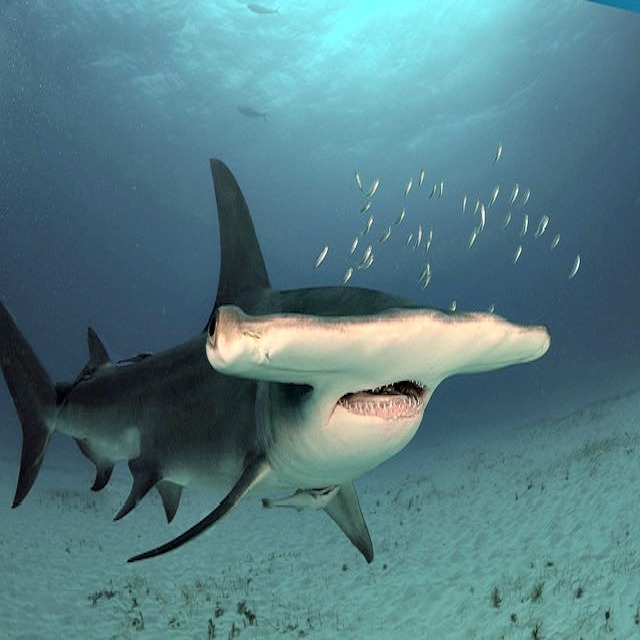hammerhead: (1, 208, 575, 518)
